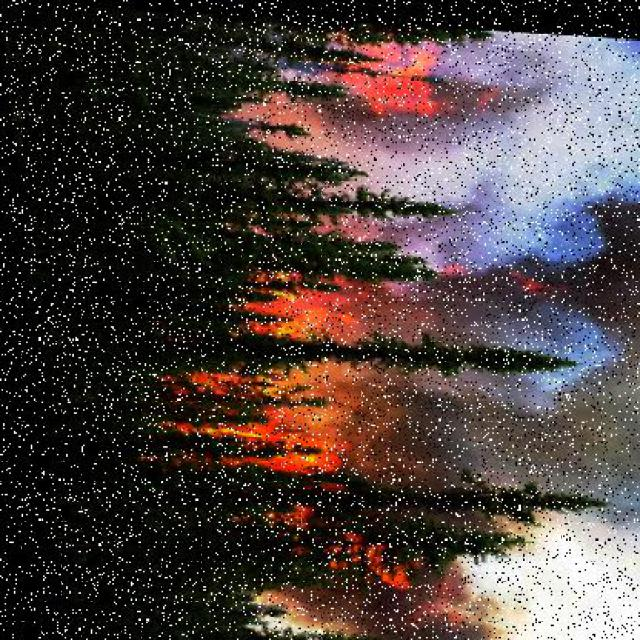fire: (137, 344, 380, 498)
